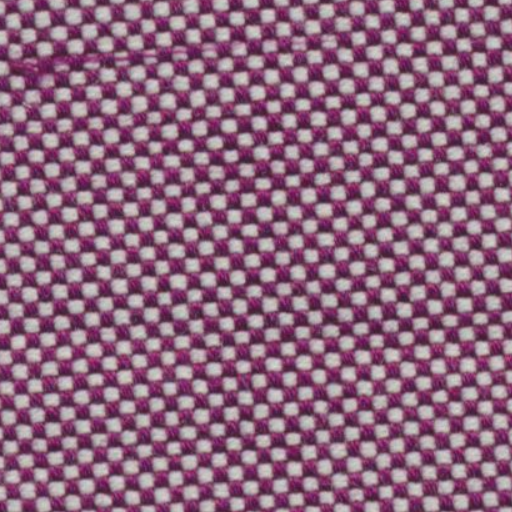DuanSha: (10, 38, 304, 76)
